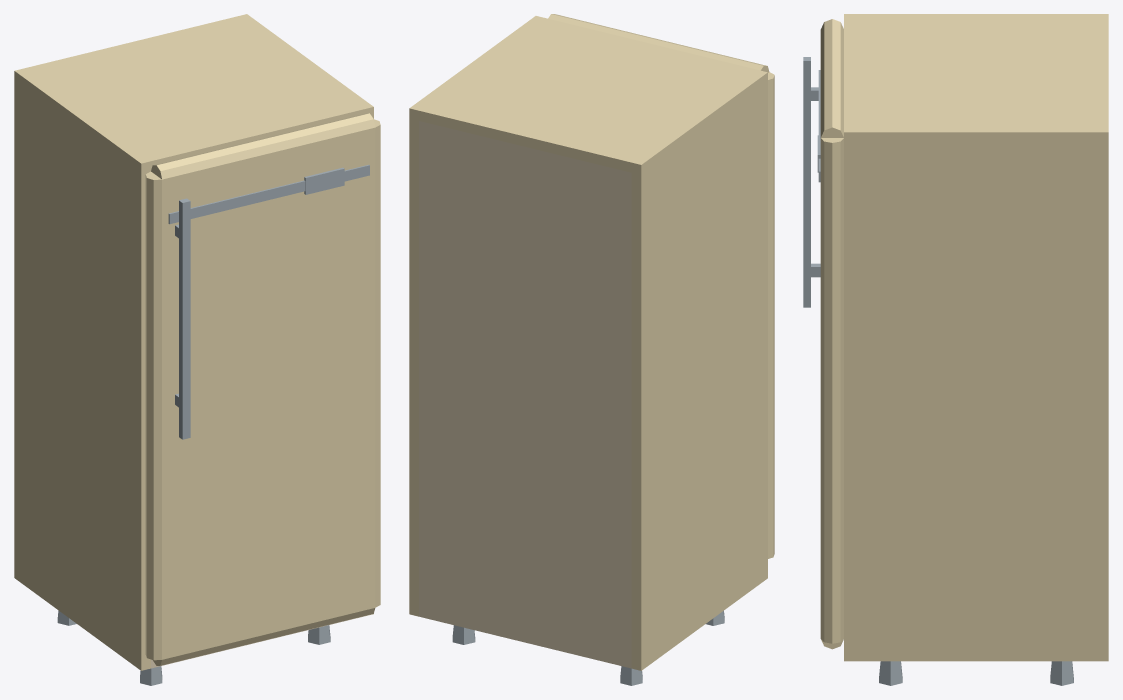
The model's file is GI_Fridge_Retro_01.glb.
The picture shows the model from 3 angles, left to right: view 1: azimuth 30°, elevation 25°; view 2: azimuth 150°, elevation 25°; view 3: azimuth 270°, elevation 25°; orthographic projection. The views are drawn at different scales.
Visible parts, largest first — view 1: Door, GI_Fridge_Retro_01; view 2: GI_Fridge_Retro_01, Door; view 3: GI_Fridge_Retro_01, Door.
Part boxes in pixels (<box>): Door: <box>145,113,380,665</box>; GI_Fridge_Retro_01: <box>14,14,373,685</box>; GI_Fridge_Retro_01: <box>409,16,767,685</box>; Door: <box>548,14,774,558</box>; GI_Fridge_Retro_01: <box>844,14,1108,685</box>; Door: <box>803,19,843,649</box>.
Bounding box in the file's own units: 0.72 × 1.6 × 0.785.
Materials: 2 (2 with a texture image).
